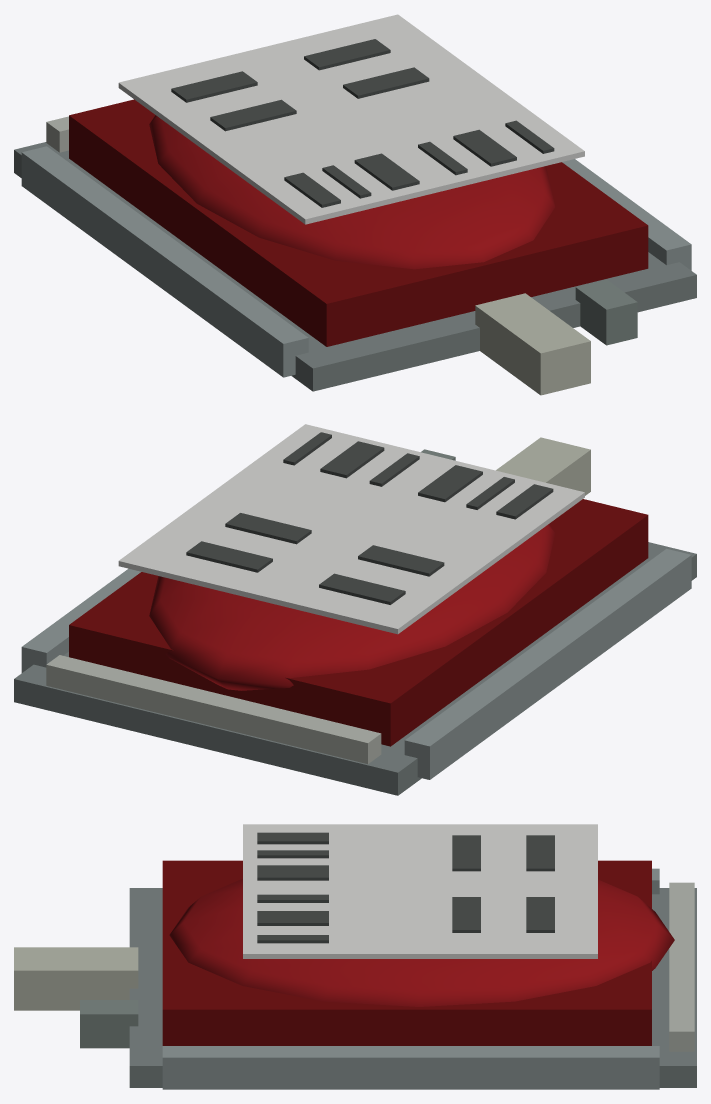
The model's file is CMU3DFullBloodPack.glb.
3 renders of one model, top to bottom at view 1: azimuth 30°, elevation 25°; view 2: azimuth 150°, elevation 25°; view 3: azimuth 270°, elevation 25°, orthographic. The views are drawn at different scales.
Visible parts, largest first — view 1: pale printed label, filled blood pouch, soft filled pouch, side seal (×2), sealed bag rim, lower outlet, printed label text (×4), label barcode (×6), small unused outlet, top heat seal; view 2: pale printed label, filled blood pouch, soft filled pouch, side seal (×2), sealed bag rim, top heat seal, printed label text (×4), label barcode (×6), lower outlet; view 3: pale printed label, filled blood pouch, soft filled pouch, side seal, sealed bag rim, lower outlet, label barcode (×6), top heat seal, printed label text (×4), small unused outlet.
Part boxes in pixels (bbox=[...]): pale printed label: bbox=[118, 14, 584, 224]; filled blood pouch: bbox=[69, 99, 648, 346]; soft filled pouch: bbox=[149, 115, 555, 269]; side seal (×2): bbox=[21, 146, 691, 377]; sealed bag rim: bbox=[14, 142, 696, 391]; lower outlet: bbox=[475, 293, 590, 395]; printed label text (×4): bbox=[171, 39, 429, 131]; label barcode (×6): bbox=[284, 120, 554, 207]; small unused outlet: bbox=[575, 279, 637, 345]; top heat seal: bbox=[46, 116, 68, 152]; pale printed label: bbox=[118, 424, 584, 634]; filled blood pouch: bbox=[69, 499, 648, 746]; soft filled pouch: bbox=[149, 524, 555, 690]; side seal (×2): bbox=[21, 548, 691, 779]; sealed bag rim: bbox=[14, 542, 696, 795]; top heat seal: bbox=[46, 655, 381, 763]; printed label text (×4): bbox=[186, 513, 444, 604]; label barcode (×6): bbox=[283, 432, 553, 519]; lower outlet: bbox=[496, 437, 590, 495]; pale printed label: bbox=[243, 824, 597, 958]; filled blood pouch: bbox=[162, 860, 651, 1045]; soft filled pouch: bbox=[169, 878, 674, 1006]; side seal: bbox=[162, 1046, 659, 1089]; sealed bag rim: bbox=[129, 888, 696, 1087]; lower outlet: bbox=[14, 947, 138, 1010]; label barcode (×6): bbox=[257, 832, 328, 943]; top heat seal: bbox=[669, 882, 694, 1051]; printed label text (×4): bbox=[452, 835, 554, 932]; small unused outlet: bbox=[80, 1000, 138, 1048].
Bounding box in the file's own units: 0.406 × 0.113 × 0.62.
